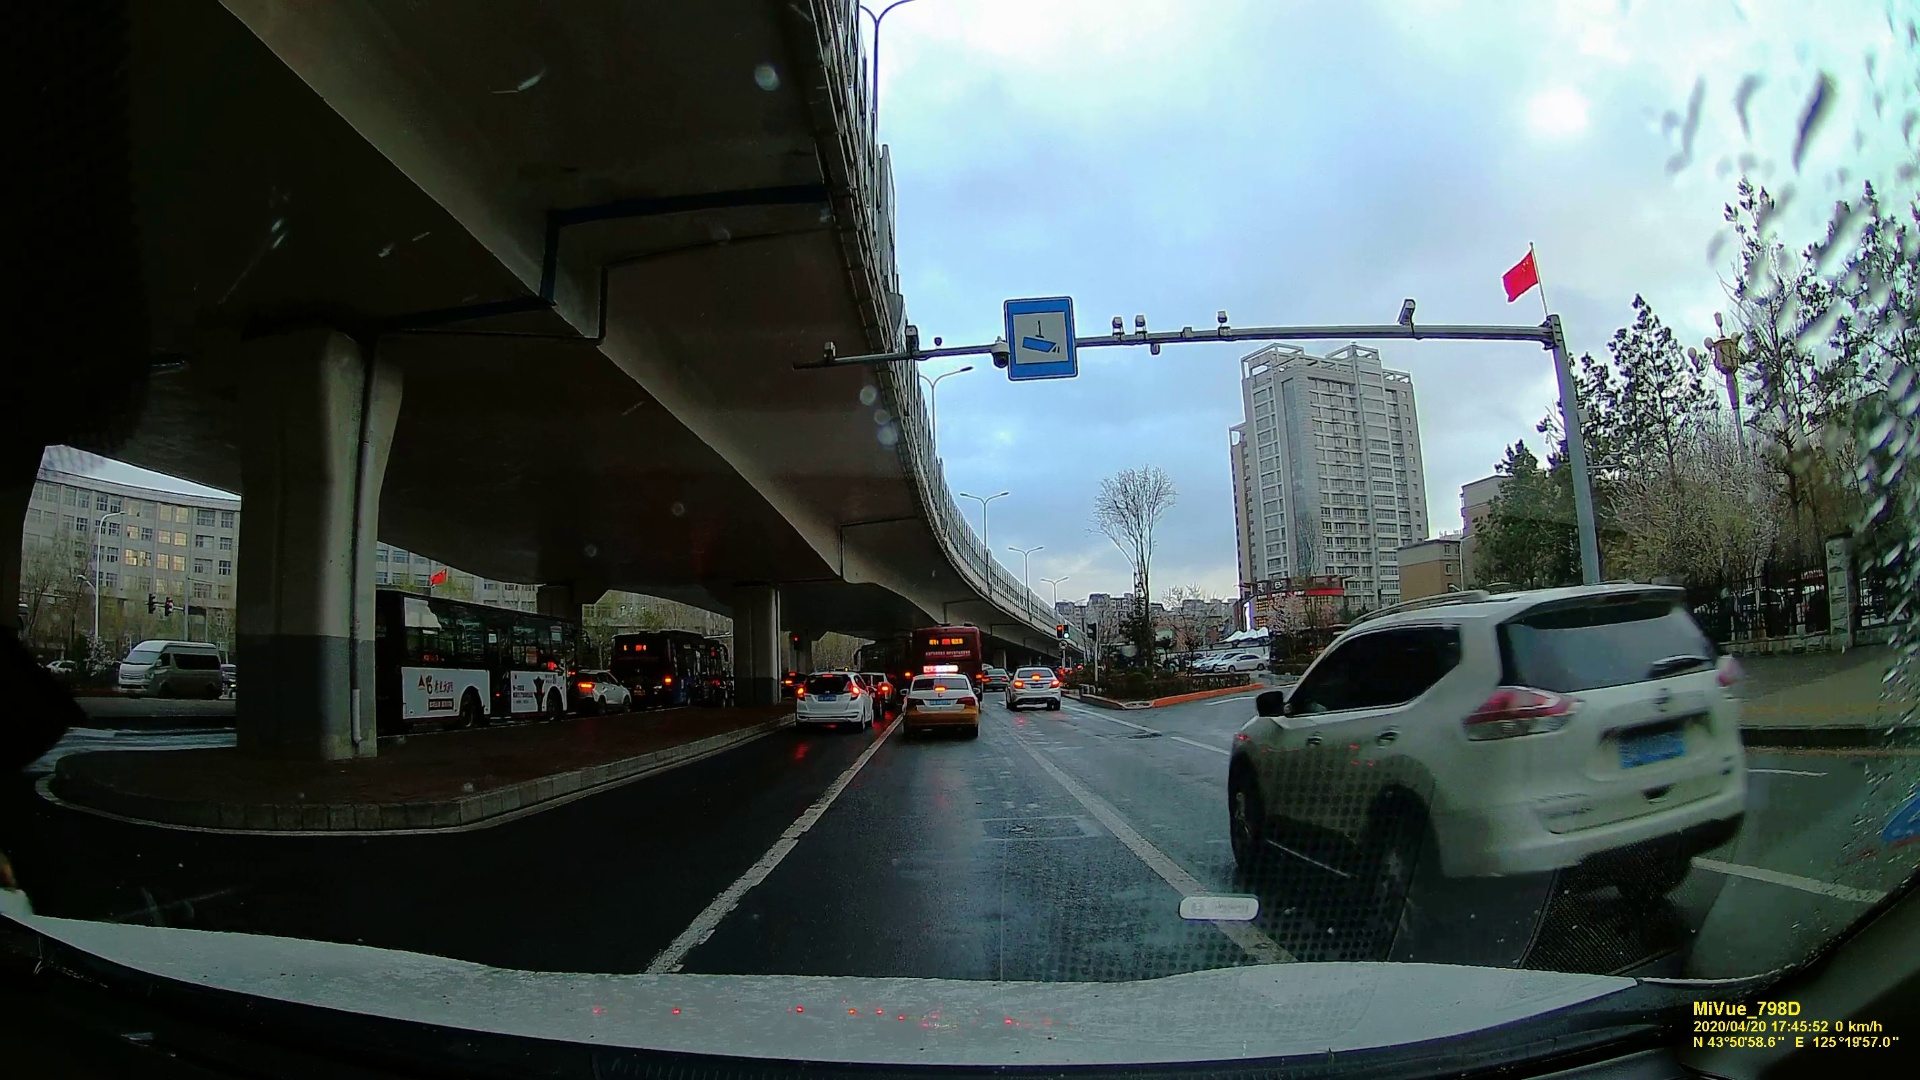bus: (378, 585, 564, 735), (616, 630, 723, 716), (907, 624, 985, 688)
minibus: (105, 636, 224, 702)
traffic_sign: (998, 295, 1079, 380), (1058, 622, 1068, 640)
vehicle: (1213, 568, 1768, 906), (899, 673, 982, 737), (793, 670, 872, 731), (1005, 665, 1063, 709)
